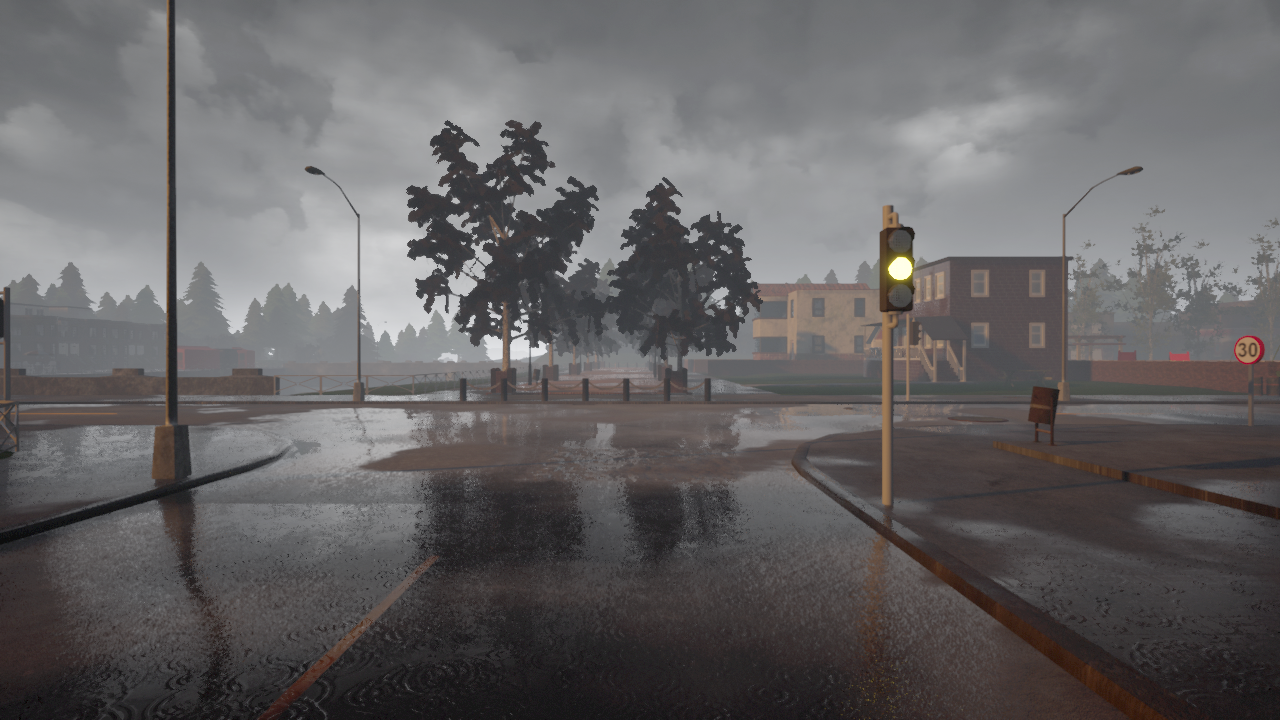yellow: (876, 224, 916, 316)
